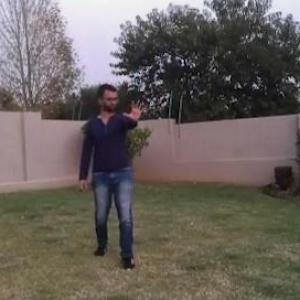follow_hand: (123, 95, 149, 123)
